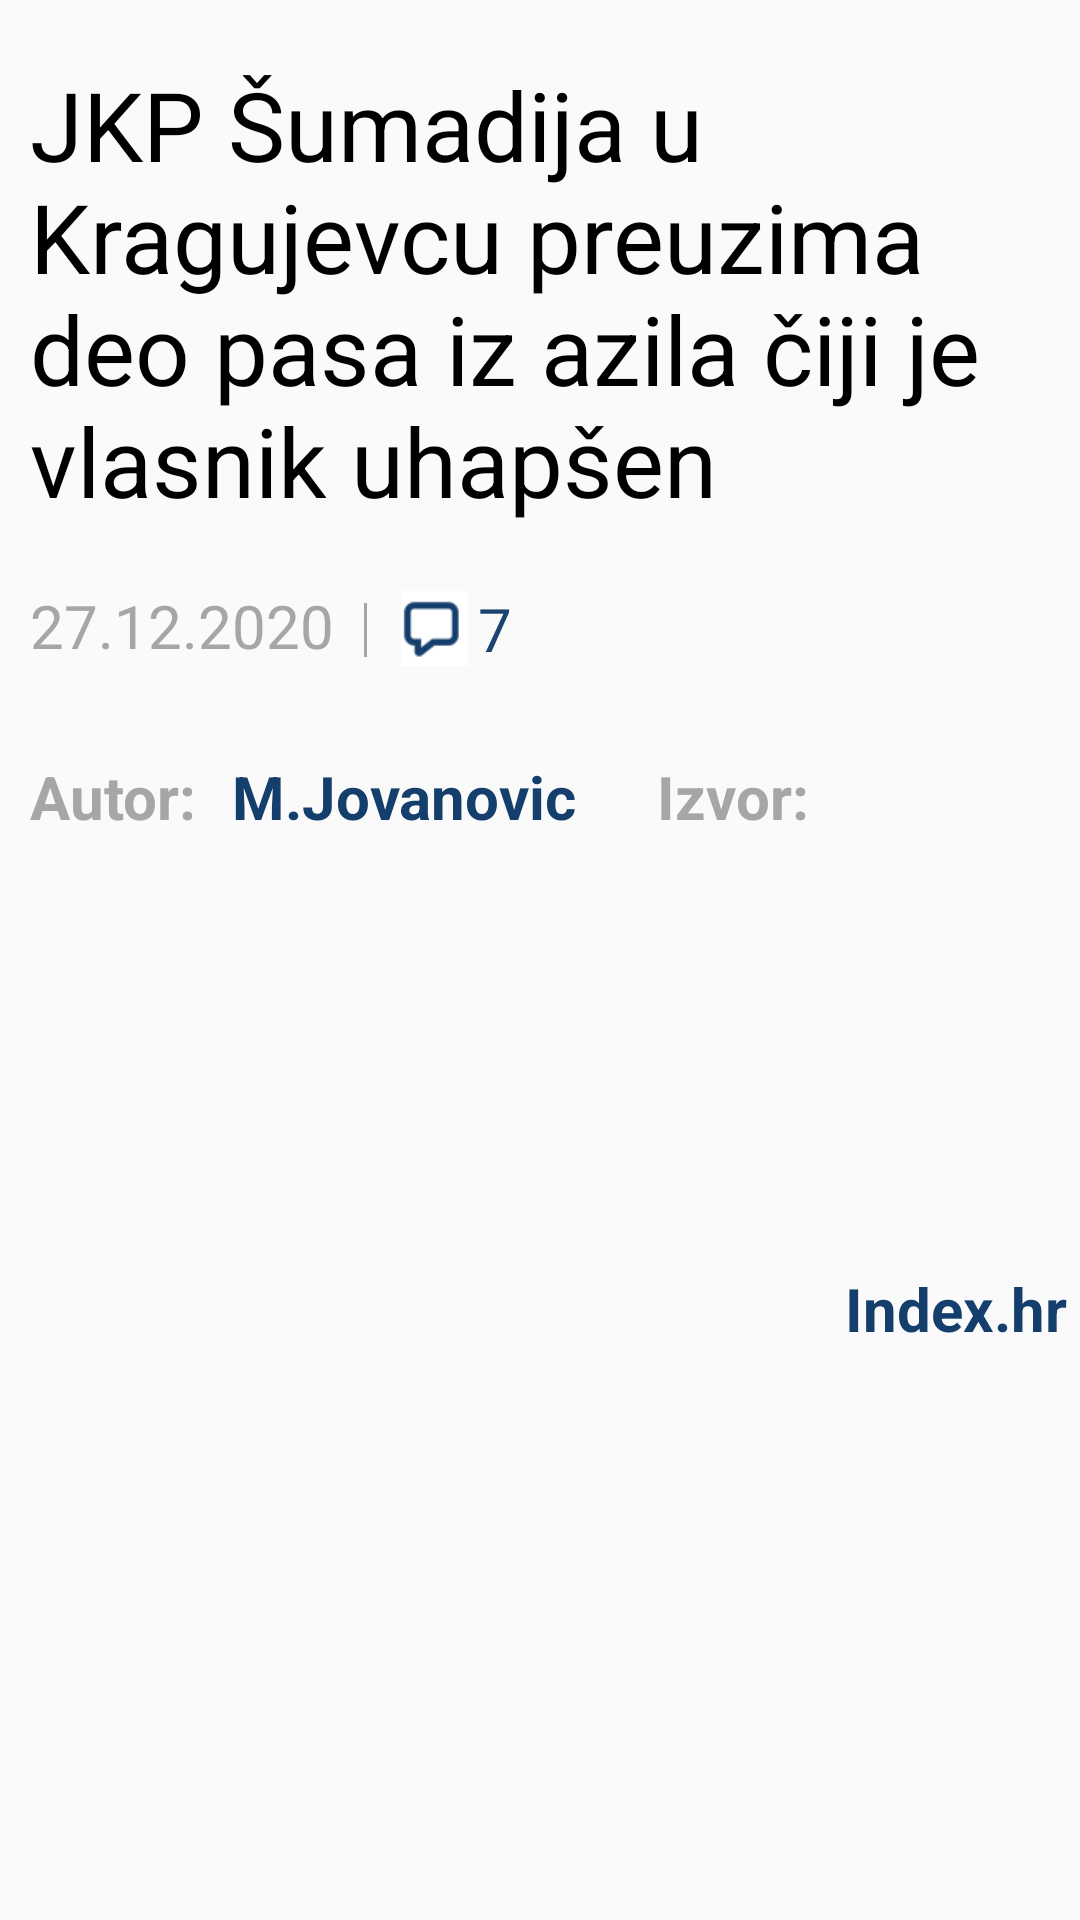

Named icons in this screenshot (1080w x 1920h) and their centers, point (x, y):
commentwhitepng: point (431, 629)
